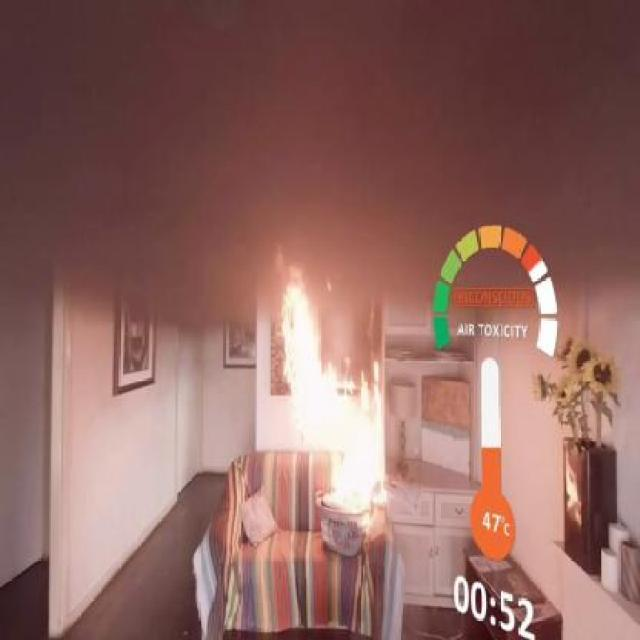fire: (272, 258, 400, 544)
smoke: (52, 18, 570, 270)
